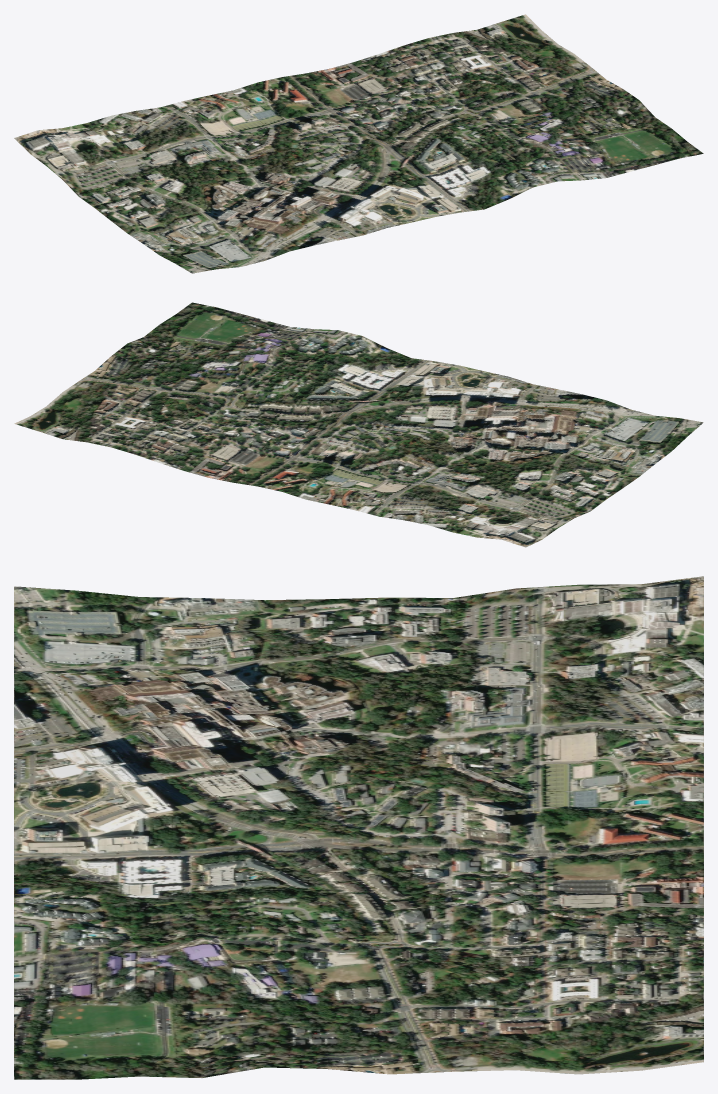
File: gainesville_beaty_towers.glb
3 renders of one model, top to bottom at view 1: azimuth 30°, elevation 25°; view 2: azimuth 150°, elevation 25°; view 3: azimuth 270°, elevation 25°, orthographic. The views are drawn at different scales.
Visible parts, largest first — view 1: TerrainNode_0; view 2: TerrainNode_0; view 3: TerrainNode_0.
Boxes of the visible parts, x1,y1,x2,y2 form: TerrainNode_0: (14,14,703,273); TerrainNode_0: (14,302,703,547); TerrainNode_0: (14,576,703,1079).
Bounding box in the file's own units: 1948 × 54 × 1174.
Materials: 1 (1 with a texture image).
